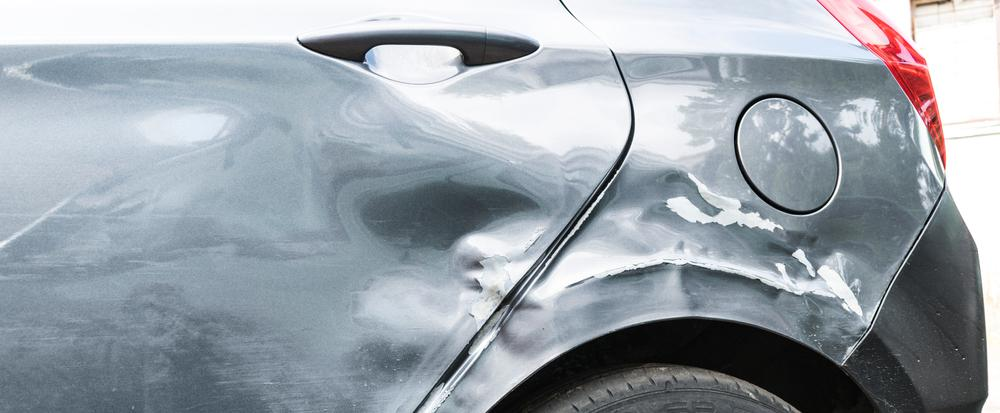dent: (507, 165, 912, 360), (318, 162, 548, 334)
